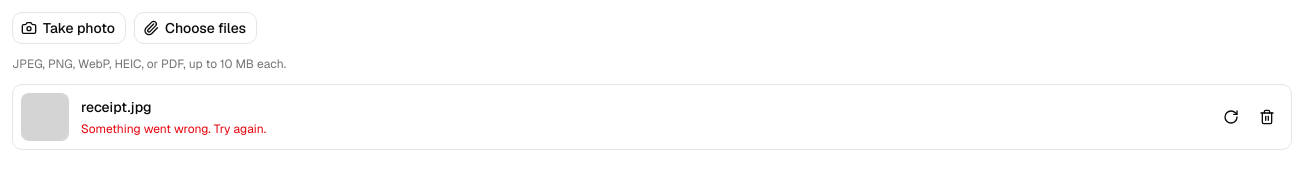
FileUpload › explains a failed upload and retries it
Earlier steps of the test are not shown.
Expected: the message reads "Something went wrong. Try again.", x1=81 y1=121 x2=266 y2=137
Click the button named "Retry uploading receipt.jpg".
click(1231, 117)  # box x1=1215 y1=101 x2=1247 y2=133
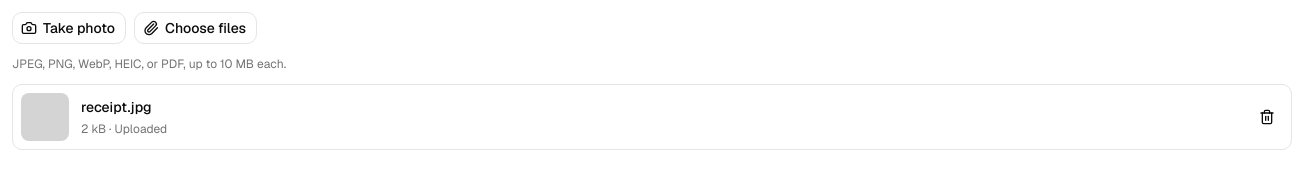
Now the text "2 kB · Uploaded" is shown, box x1=81 y1=121 x2=167 y2=137
